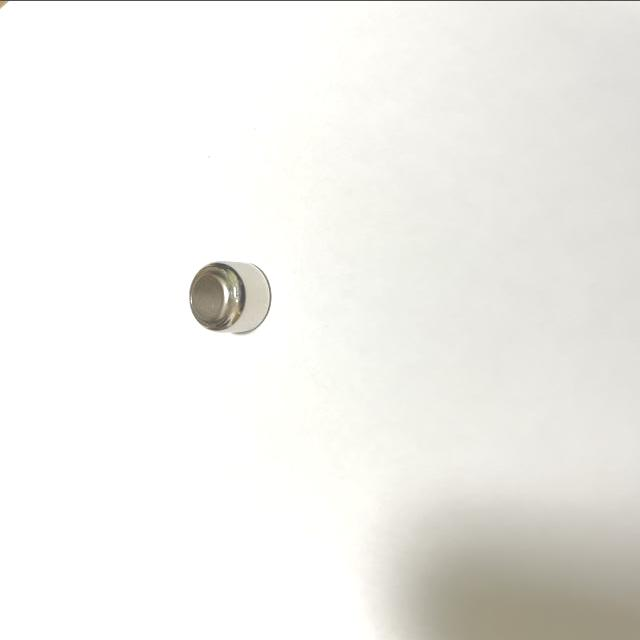COIN: (186, 258, 272, 332)
